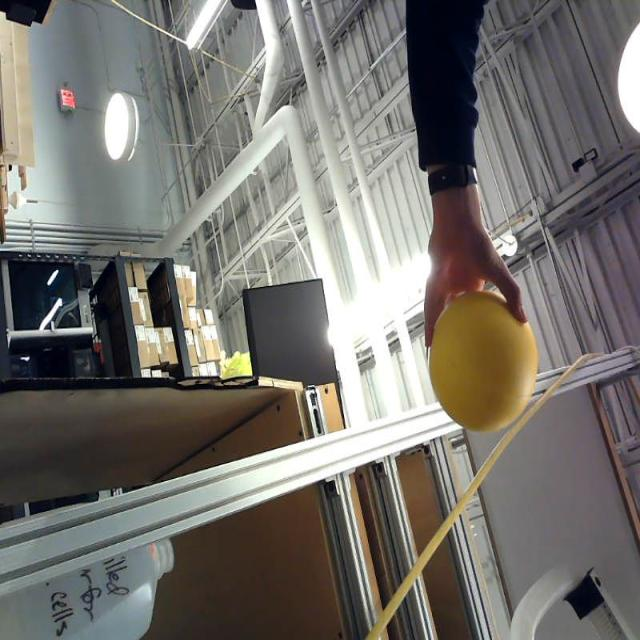Fuel: (428, 289, 537, 432)
